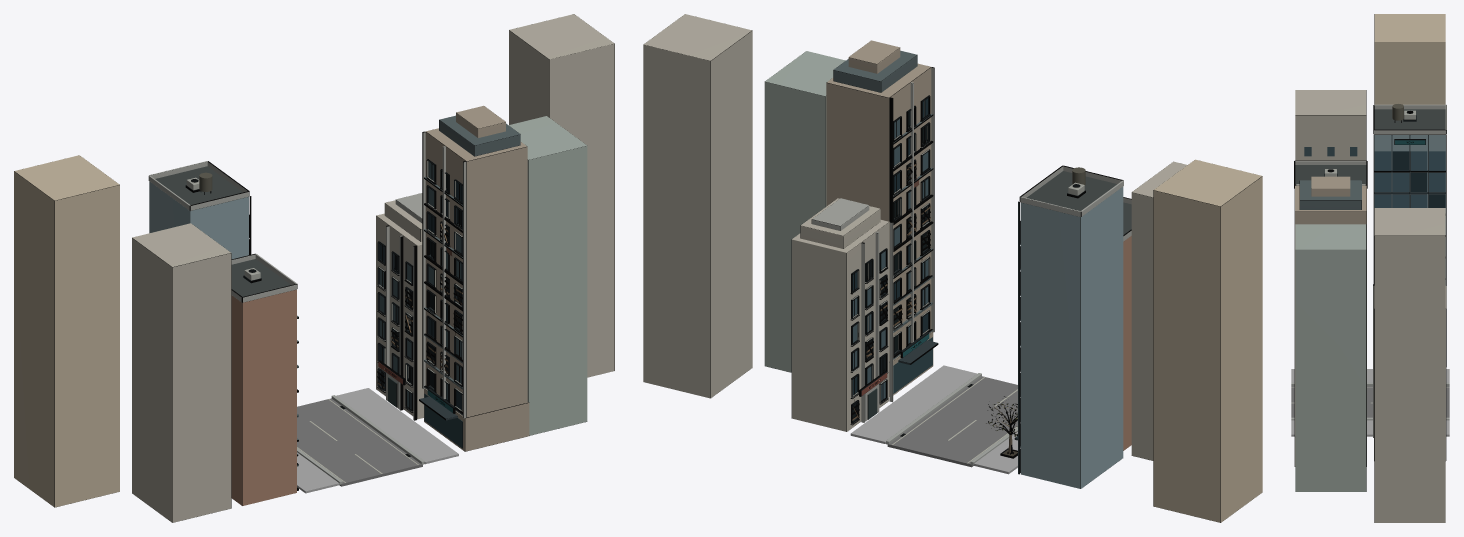
Rendered from city_hd_19.glb.
3 renders of one model, left to right at view 1: azimuth 30°, elevation 25°; view 2: azimuth 150°, elevation 25°; view 3: azimuth 270°, elevation 25°, orthographic. The views are drawn at different scales.
Parts seen in each view (by area): view 1: Background city building.001, CITY_PBR_asphalt, CITY_PBR_pavement, CITY_curb; view 2: Background city building.001, CITY_PBR_asphalt, CITY_PBR_pavement, CITY_curb; view 3: Background city building.001, CITY_PBR_asphalt, CITY_PBR_pavement.
Part boxes in pixels (bbox=[...]): Background city building.001: bbox=[14, 14, 614, 522]; CITY_PBR_asphalt: bbox=[297, 398, 422, 486]; CITY_PBR_pavement: bbox=[297, 388, 458, 493]; CITY_curb: bbox=[297, 395, 424, 484]; Background city building.001: bbox=[643, 14, 1262, 522]; CITY_PBR_asphalt: bbox=[887, 376, 1020, 467]; CITY_PBR_pavement: bbox=[850, 365, 1020, 474]; CITY_curb: bbox=[886, 373, 1017, 465]; Background city building.001: bbox=[1294, 14, 1446, 522]; CITY_PBR_asphalt: bbox=[1291, 386, 1449, 417]; CITY_PBR_pavement: bbox=[1291, 369, 1449, 436].
Size of the model in its own units: 57.3 by 32.26 by 16.
8 materials, 1 textured.
